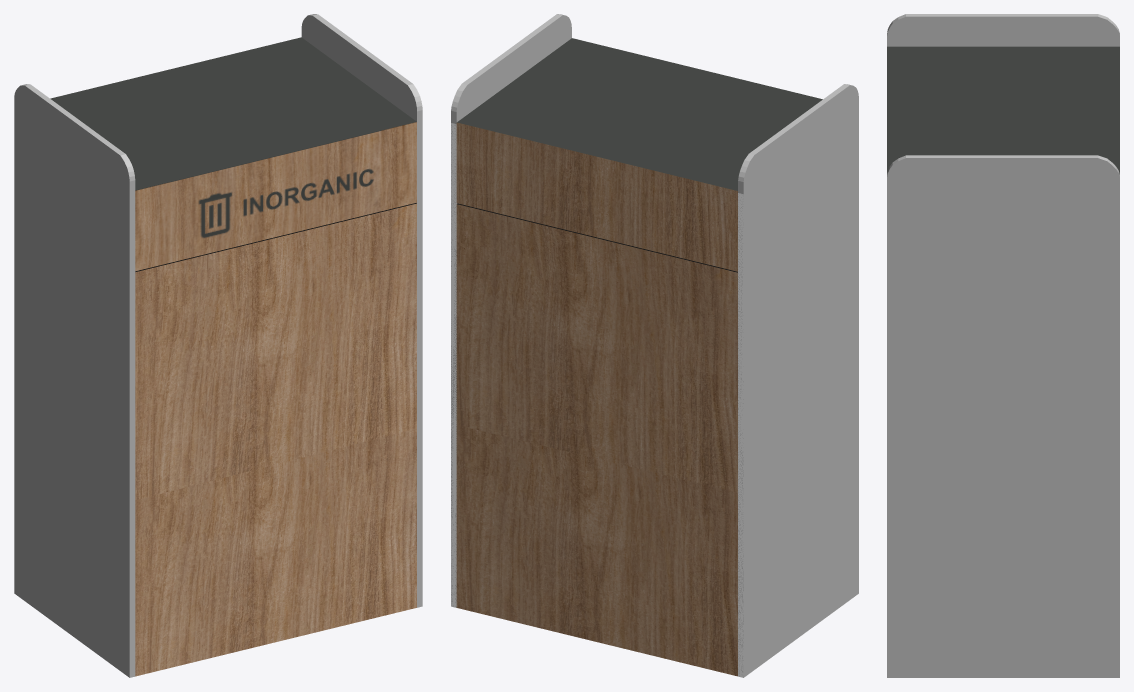
Rendered from inorganicTrash.fbx.
3 renders of one model, left to right at view 1: azimuth 30°, elevation 25°; view 2: azimuth 150°, elevation 25°; view 3: azimuth 270°, elevation 25°, orthographic.
Visible parts, largest first — view 1: inorganicTrash; view 2: inorganicTrash; view 3: inorganicTrash.
Part boxes in pixels (x1=…): inorganicTrash: x1=14, y1=14, x2=422, y2=677; inorganicTrash: x1=451, y1=14, x2=858, y2=677; inorganicTrash: x1=887, y1=14, x2=1119, y2=677.
Size of the model in its own units: 223 by 374 by 152.
